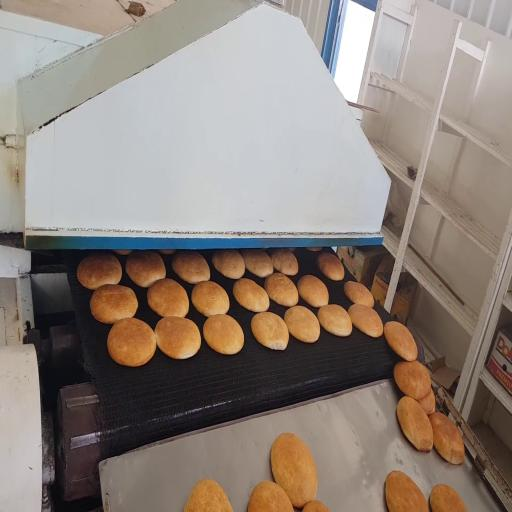bread: (271, 433, 317, 508), (107, 319, 156, 366), (397, 396, 433, 451), (155, 317, 201, 359), (90, 285, 138, 323), (429, 412, 464, 464), (386, 471, 428, 511), (77, 253, 122, 290), (147, 279, 189, 317), (203, 315, 243, 354), (184, 480, 233, 511), (251, 312, 289, 350), (394, 361, 431, 400), (126, 251, 166, 287), (248, 481, 293, 511), (191, 281, 229, 316), (384, 321, 417, 361), (284, 306, 320, 342), (233, 278, 269, 312), (172, 251, 210, 283), (348, 304, 383, 338), (264, 273, 298, 307), (318, 304, 352, 336), (430, 484, 467, 511), (297, 275, 328, 307), (212, 250, 245, 279), (242, 249, 273, 277), (270, 248, 299, 276), (317, 252, 344, 281), (344, 282, 374, 307), (418, 388, 435, 415), (303, 501, 329, 511), (159, 249, 175, 255), (114, 250, 131, 255), (307, 247, 322, 251), (288, 248, 295, 251)
